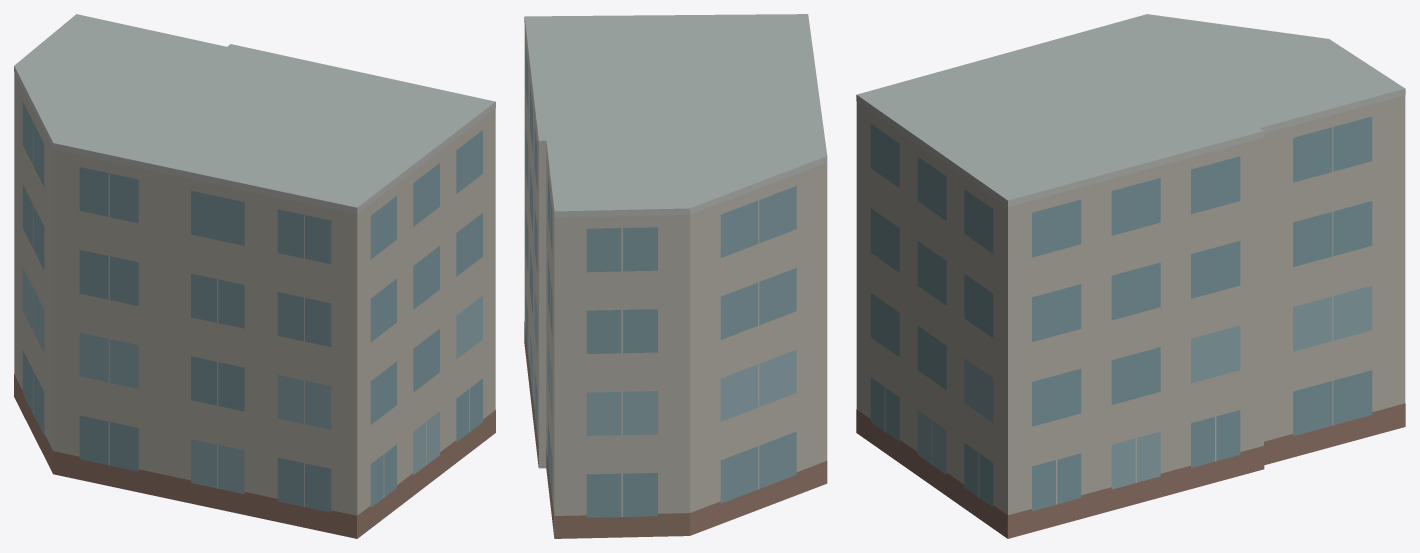
The model's file is survey-upis-32527916.glb.
3 renders of one model, left to right at view 1: azimuth 30°, elevation 25°; view 2: azimuth 150°, elevation 25°; view 3: azimuth 270°, elevation 25°, orthographic. The views are drawn at different scales.
Parts seen in each view (by area): view 1: survey-upis-32527916.tmp; view 2: survey-upis-32527916.tmp; view 3: survey-upis-32527916.tmp.
Part boxes in pixels (box(x1,y1,x2,y2)): survey-upis-32527916.tmp: box(14, 14, 495, 538); survey-upis-32527916.tmp: box(524, 14, 827, 538); survey-upis-32527916.tmp: box(856, 14, 1405, 538).
Bounding box in the file's own units: 14.68 × 12.4 × 18.25.
